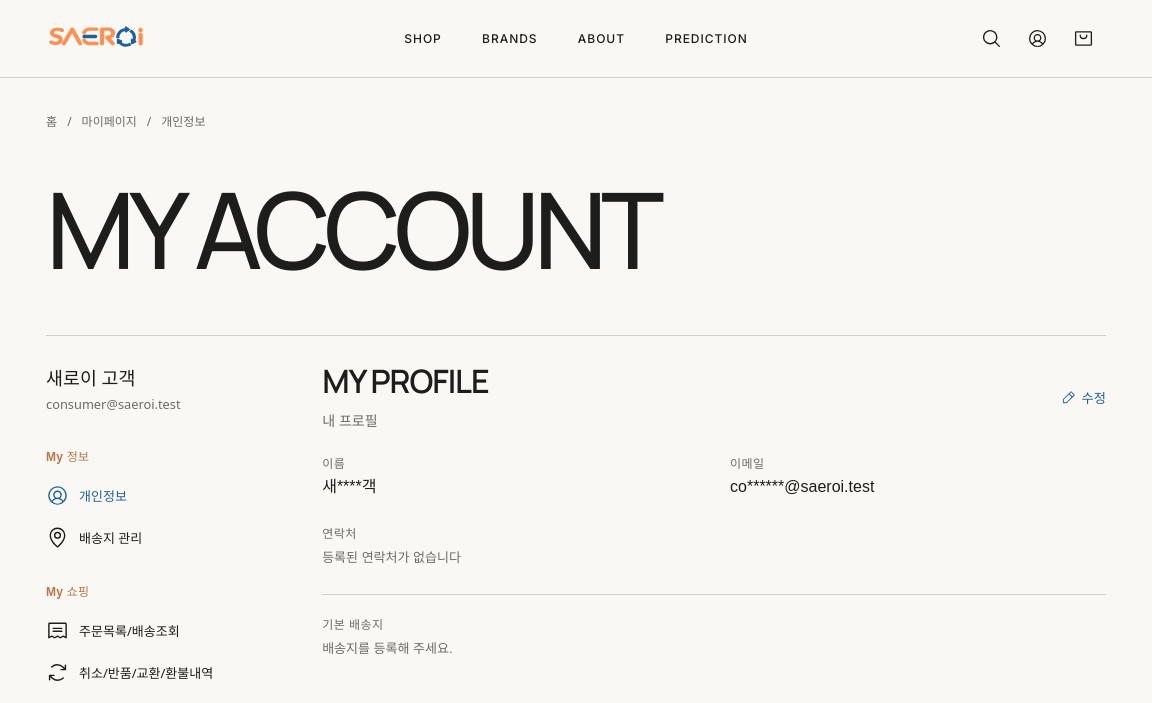
Test: consumer mypage route › shows common-header logout failure without clearing the session
The image size is (1152, 703).
Expected: the heading "내 프로필" is shown, [322, 413, 378, 429]
Click the button named "계정 메뉴" at (1038, 38), box [1016, 16, 1060, 60]
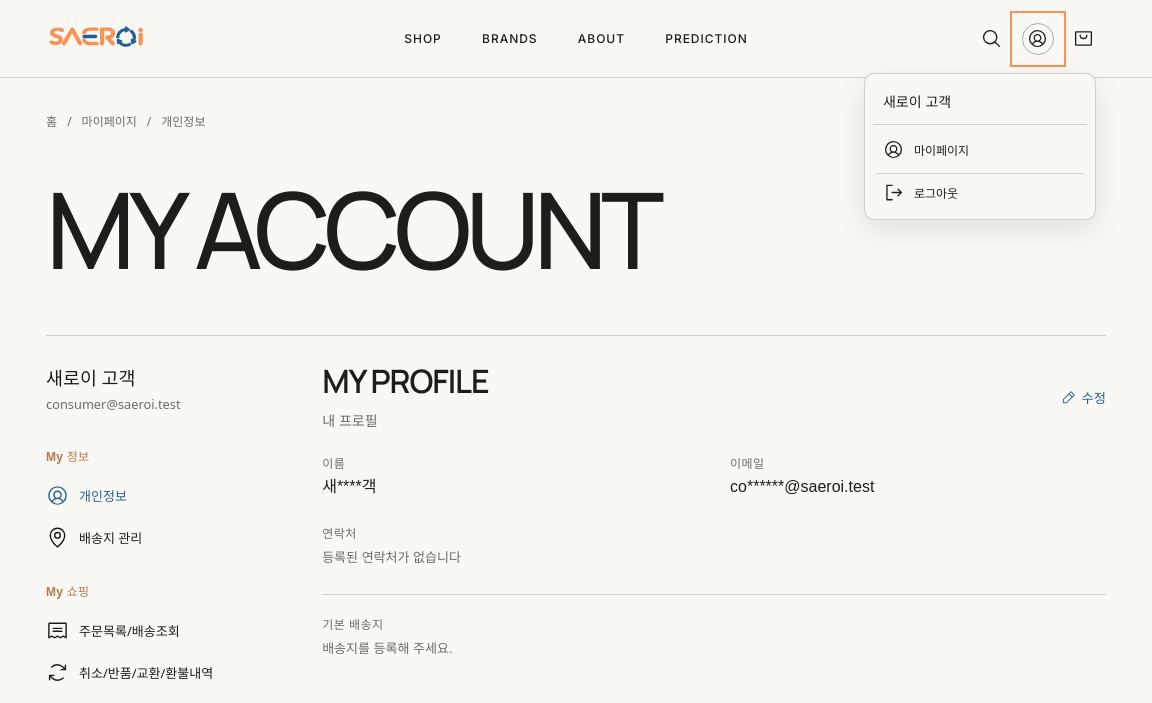
Click the button "로그아웃" at (980, 192), box [873, 173, 1087, 211]
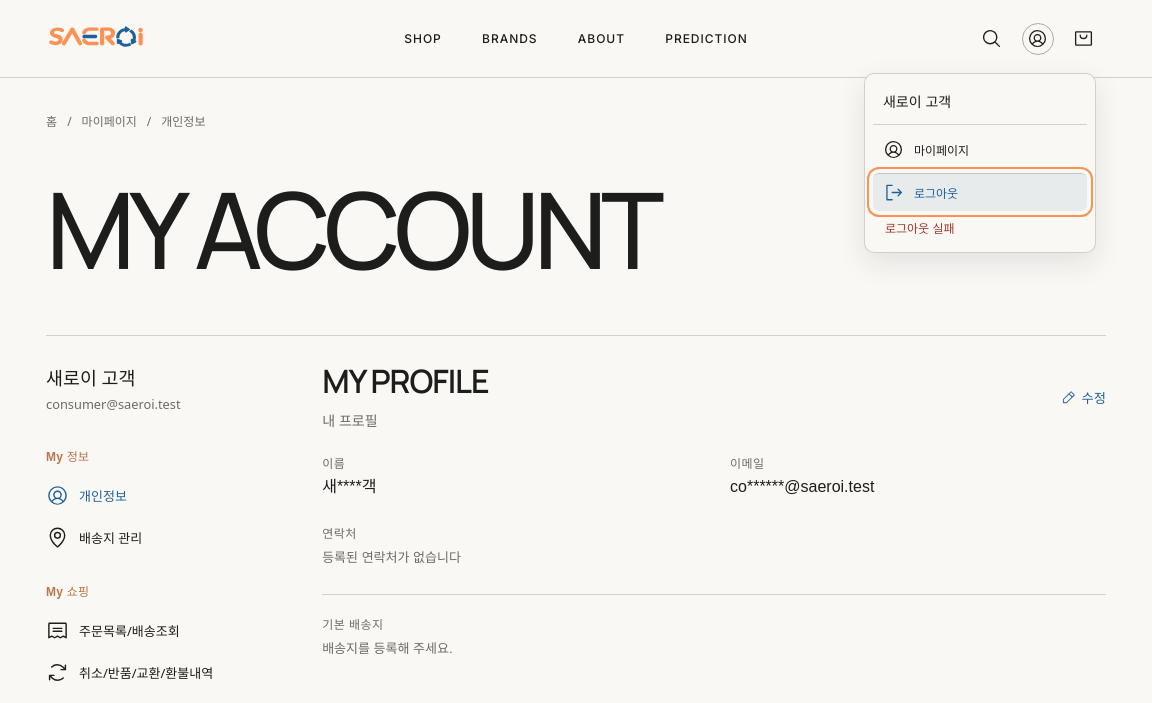
Expected: the message reads "로그아웃 실패", [885, 222, 954, 236]
